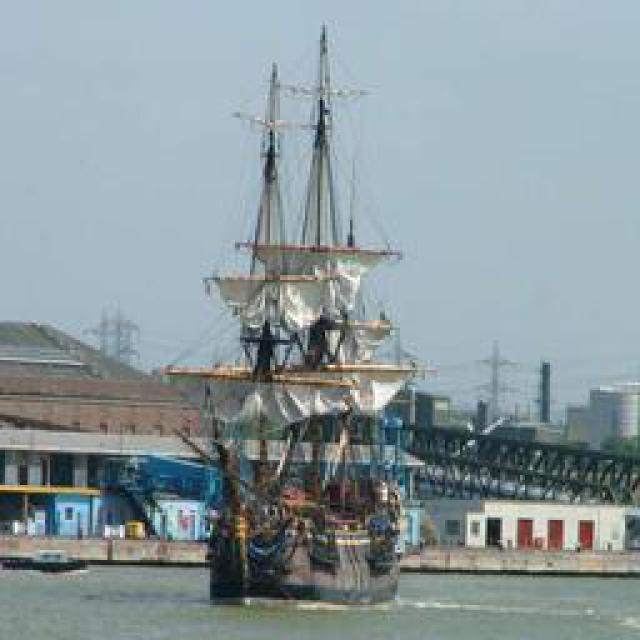Ship: (207, 20, 411, 614)
